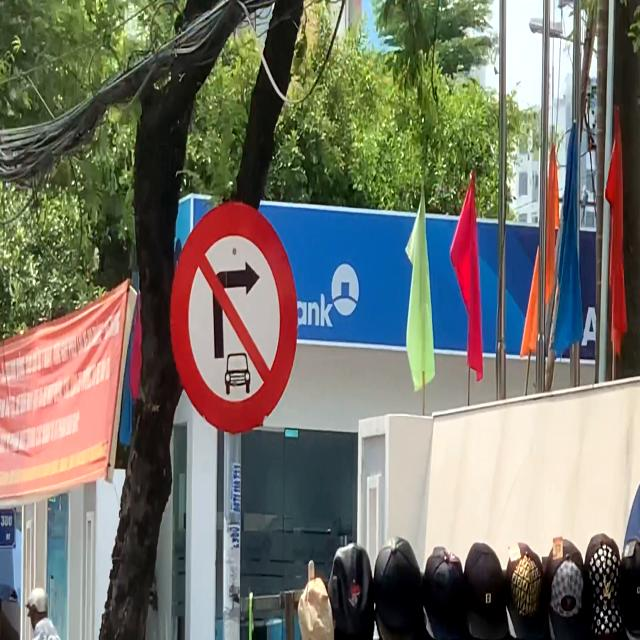P.103b: (169, 202, 299, 435)
